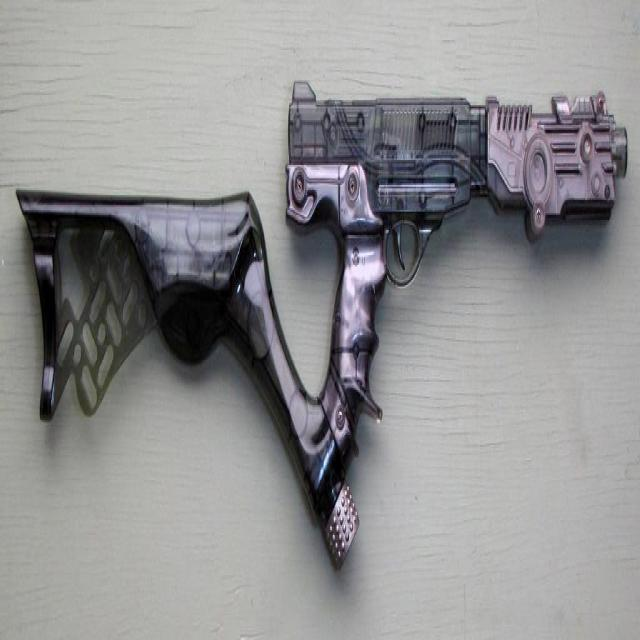weapon: (16, 78, 629, 573)
